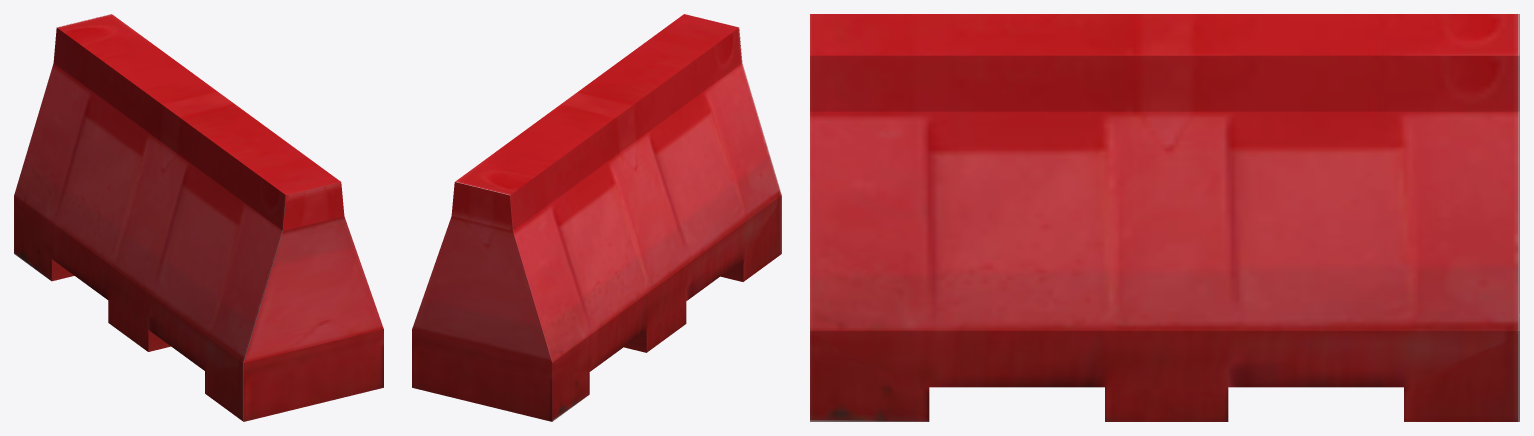
File: Barrier-Red.fbx
3 renders of one model, left to right at view 1: azimuth 30°, elevation 25°; view 2: azimuth 150°, elevation 25°; view 3: azimuth 270°, elevation 25°, orthographic. The views are drawn at different scales.
Parts seen in each view (by area): view 1: Barrier; view 2: Barrier; view 3: Barrier.
Part boxes in pixels (<box>): Barrier: <box>14,14,383,421</box>; Barrier: <box>412,14,781,421</box>; Barrier: <box>810,14,1519,421</box>.
Bounding box in the file's own units: 70.5 × 104 × 200.
